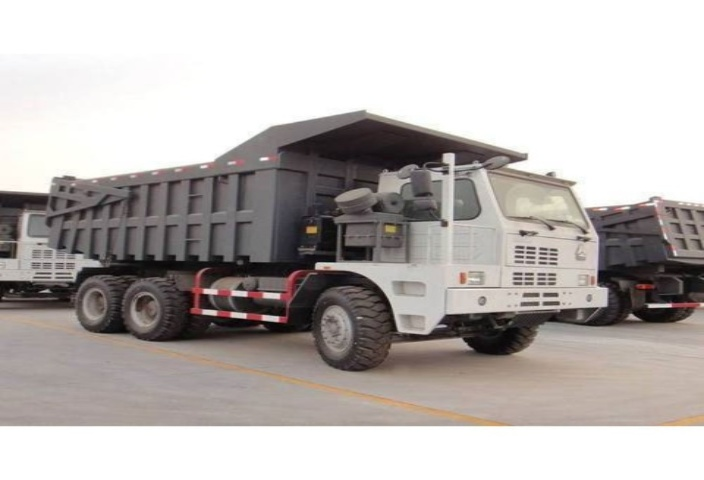industrial: (11, 112, 614, 378)
